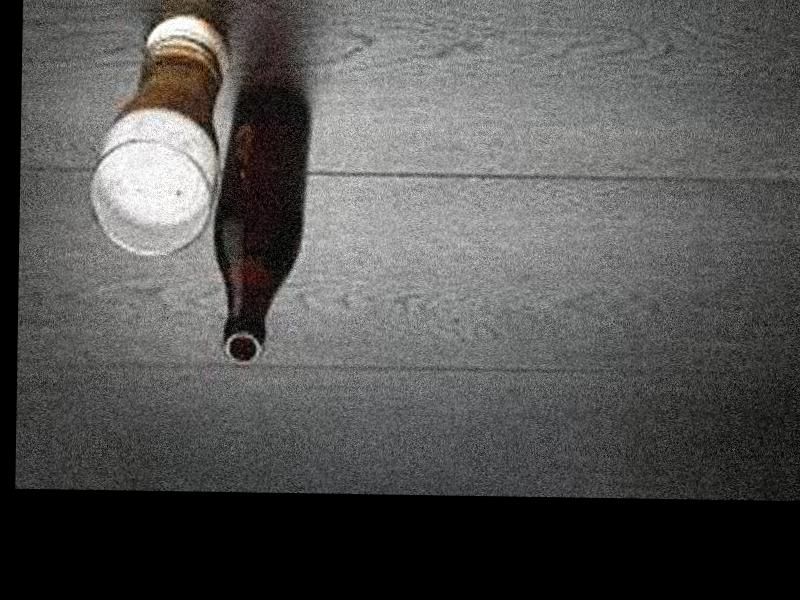Beer: (209, 78, 313, 368)
